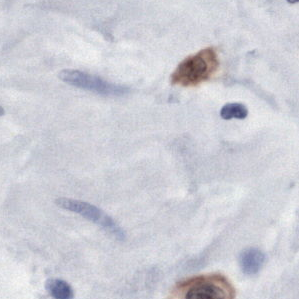Lymphocyte: (174, 55, 210, 83)
